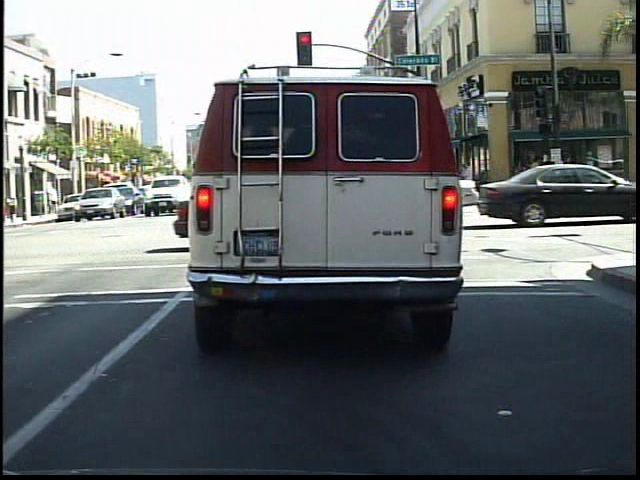person: (538, 154, 560, 206), (511, 158, 531, 204)
